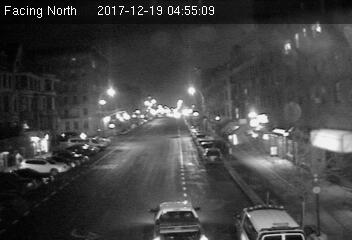car: (147, 200, 210, 240), (203, 148, 223, 164)
police: (230, 204, 304, 240)
